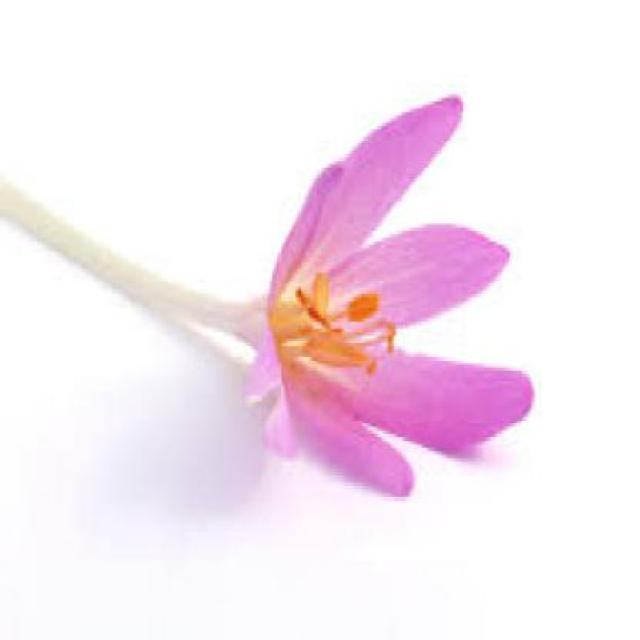Flower: (229, 91, 536, 500)
